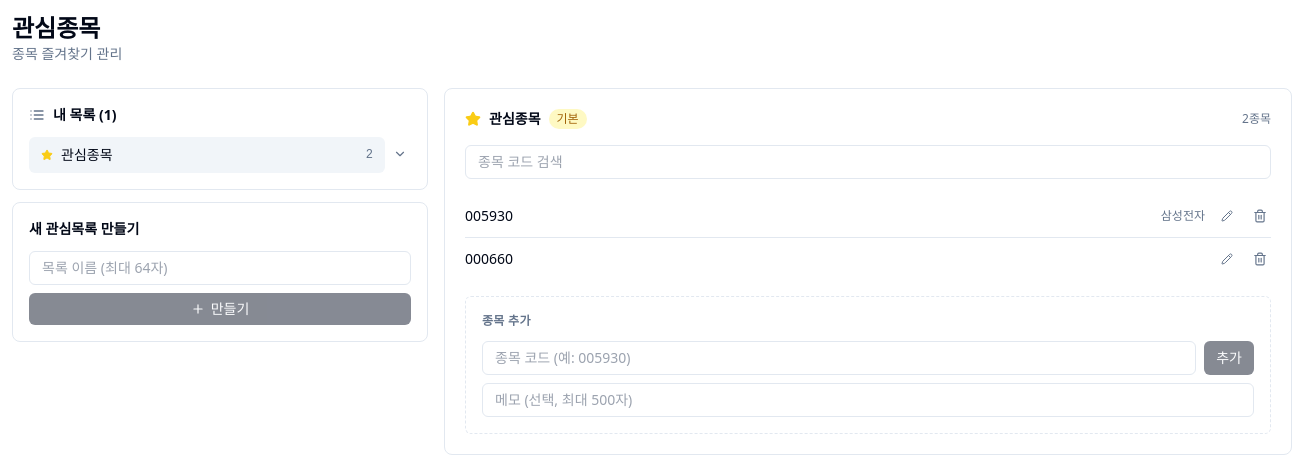
Test case: WatchlistListItem — delete › shows error when delete returns 404
Click the button with test id "watchlist-menu-toggle-1": [400, 154] box [389,143,411,165]
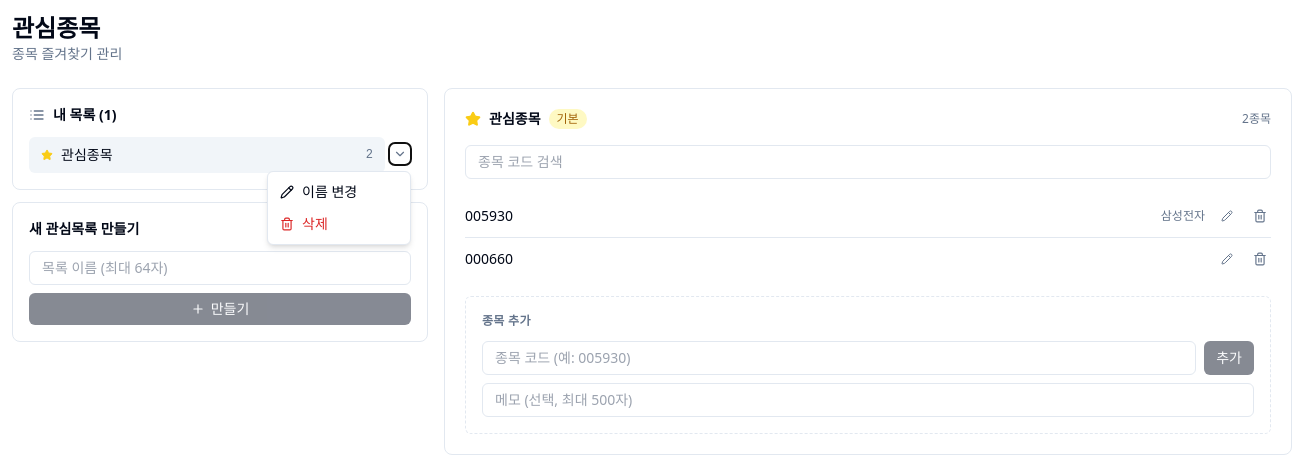
Expected: the button with test id "watchlist-delete-btn-1" is shown
Click the button with test id "watchlist-delete-btn-1": [339, 224] box [268,208,410,240]
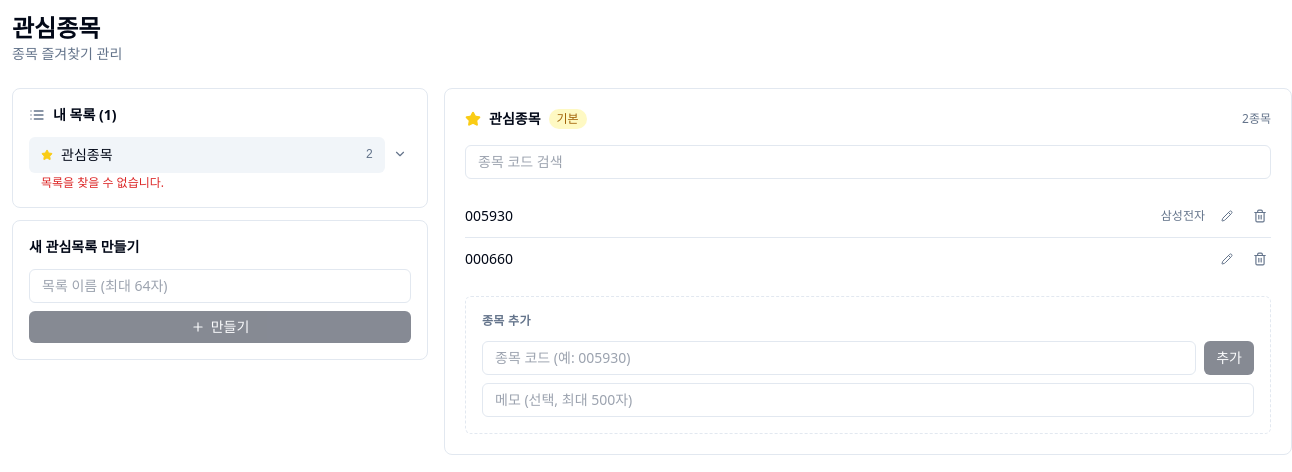
Expected: the message "목록을 찾을 수 없습니다." is shown, [41,174,164,191]
